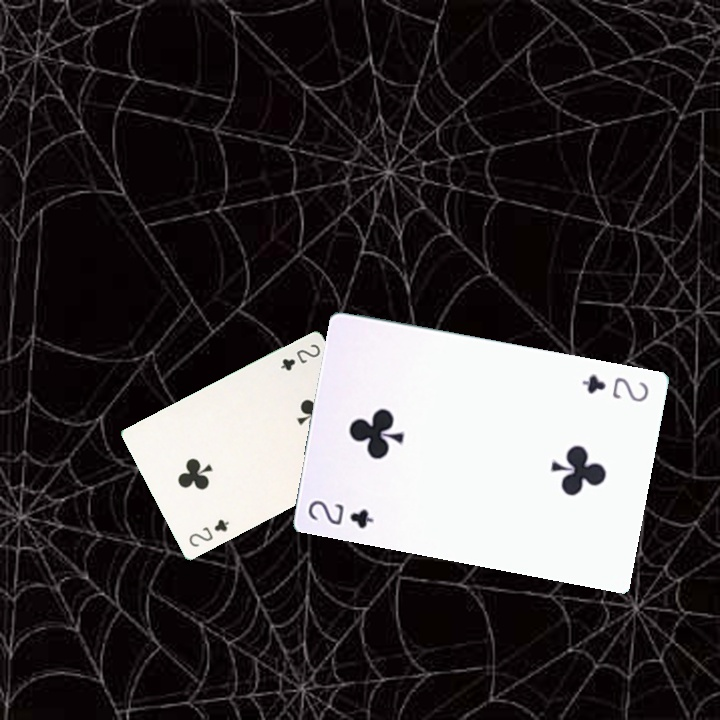2c: (578, 369, 651, 405), (304, 496, 377, 531), (185, 515, 232, 550), (276, 340, 323, 374)
